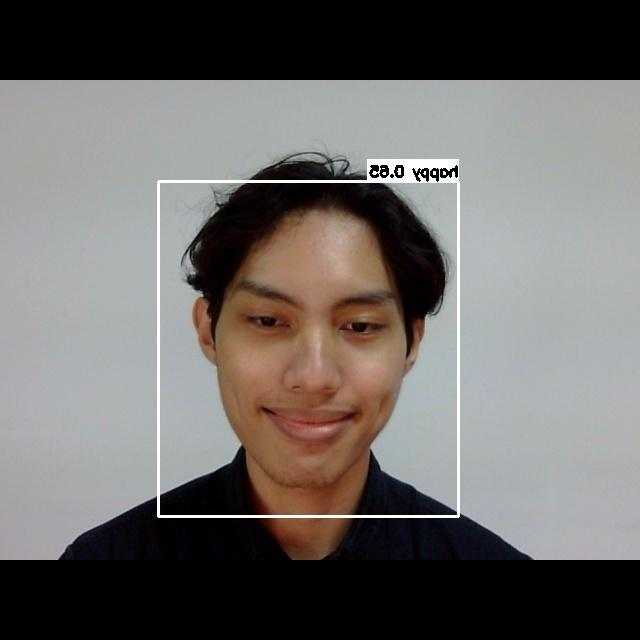Happy: (211, 256, 407, 461)
